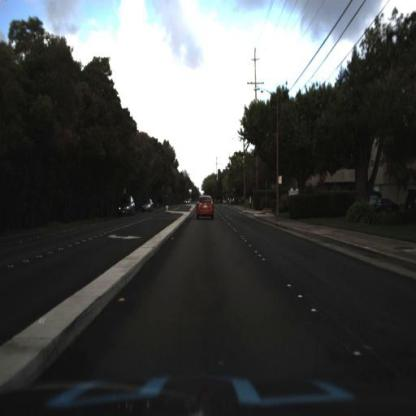car: (196, 194, 216, 221), (120, 196, 136, 217), (140, 195, 155, 215), (142, 197, 157, 215)
pedestrian: (250, 195, 253, 211)
